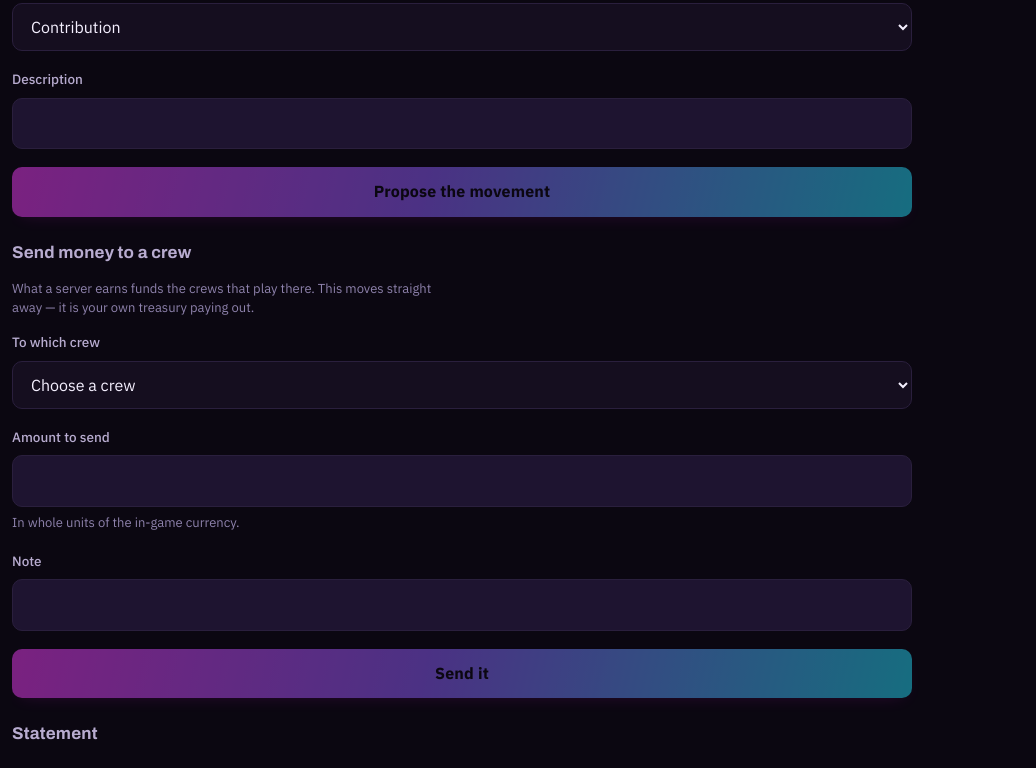
Test: a tesouraria de um servidor › transfere para a crew escolhida
(page scrolled)
Select "[VICE] Vice Kings" in the dropdown labelled "To which crew" at (462,384), box x1=12 y1=360 x2=912 y2=408
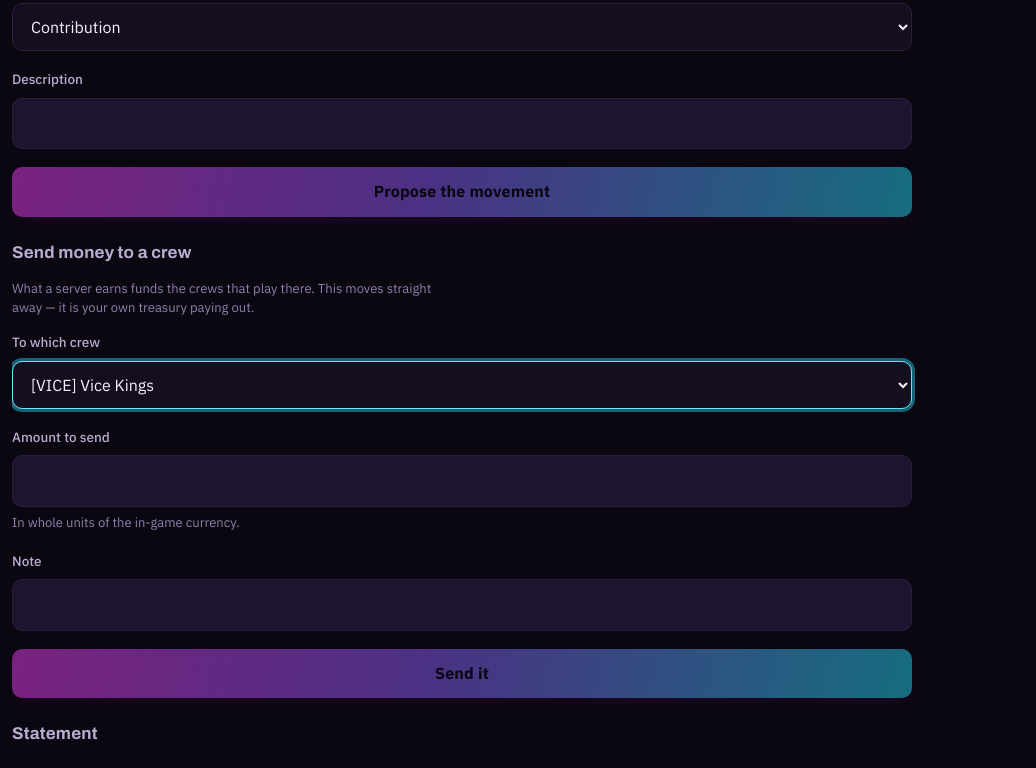
Type "250" into the field labelled "Amount to send" at (462,481), box x1=12 y1=455 x2=912 y2=507
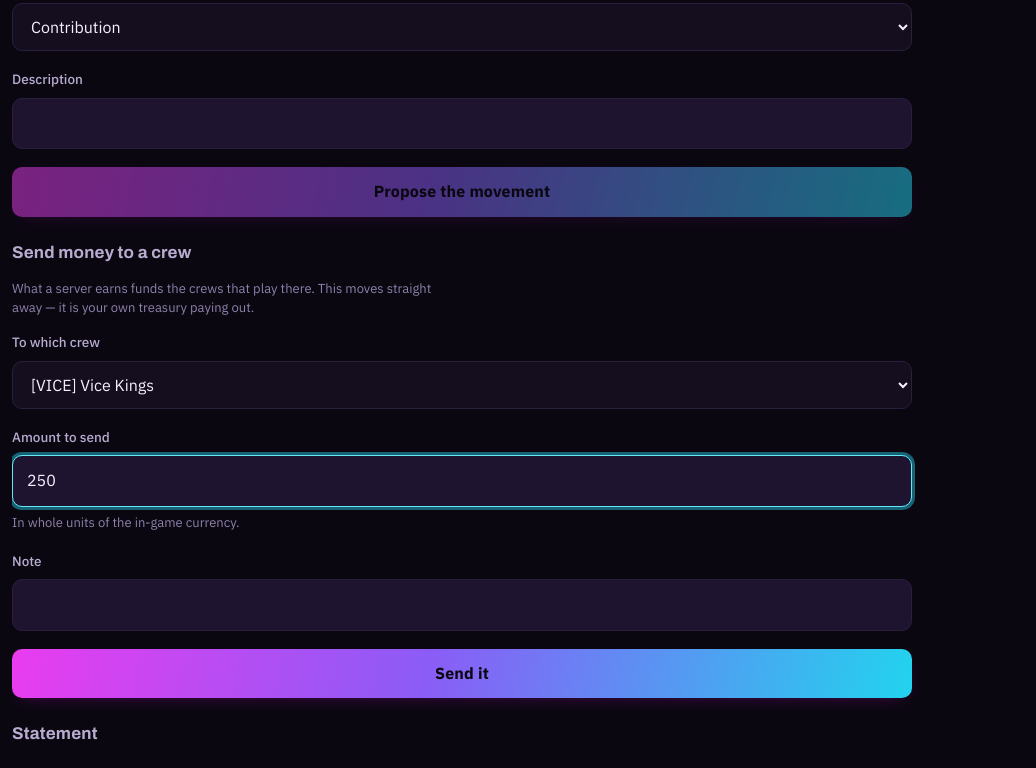
Type "Para o assalto" into the field labelled "Note" at (462,605), box x1=12 y1=579 x2=912 y2=631
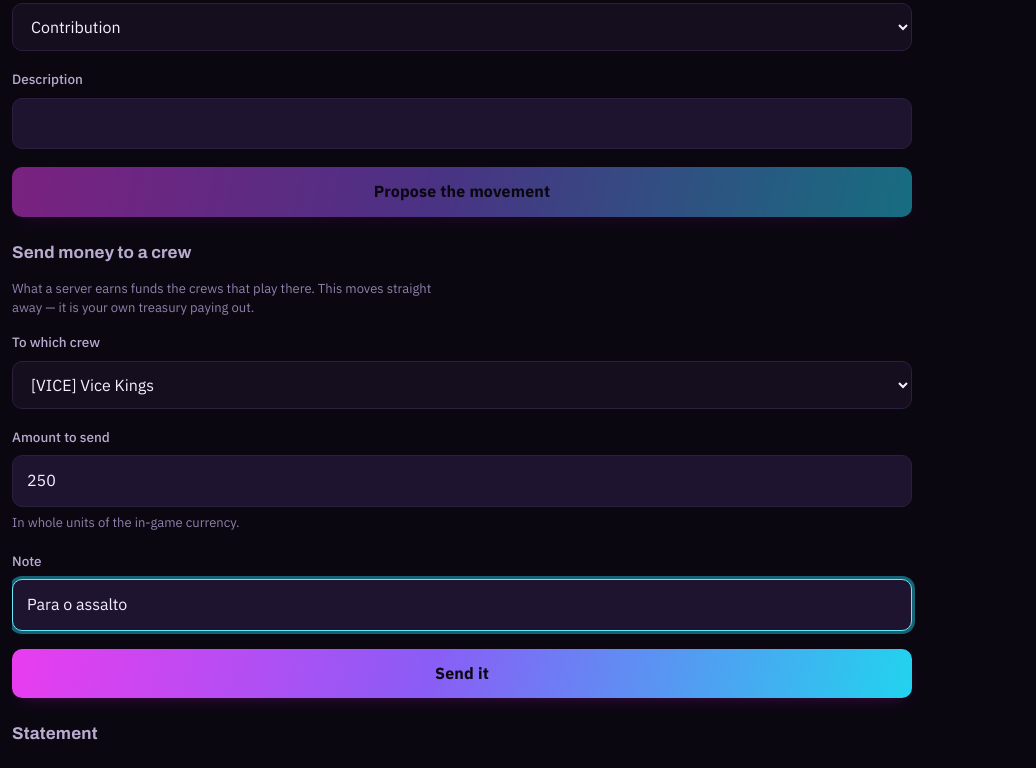
Click the button "Send it" at (462,674), box x1=12 y1=649 x2=912 y2=698
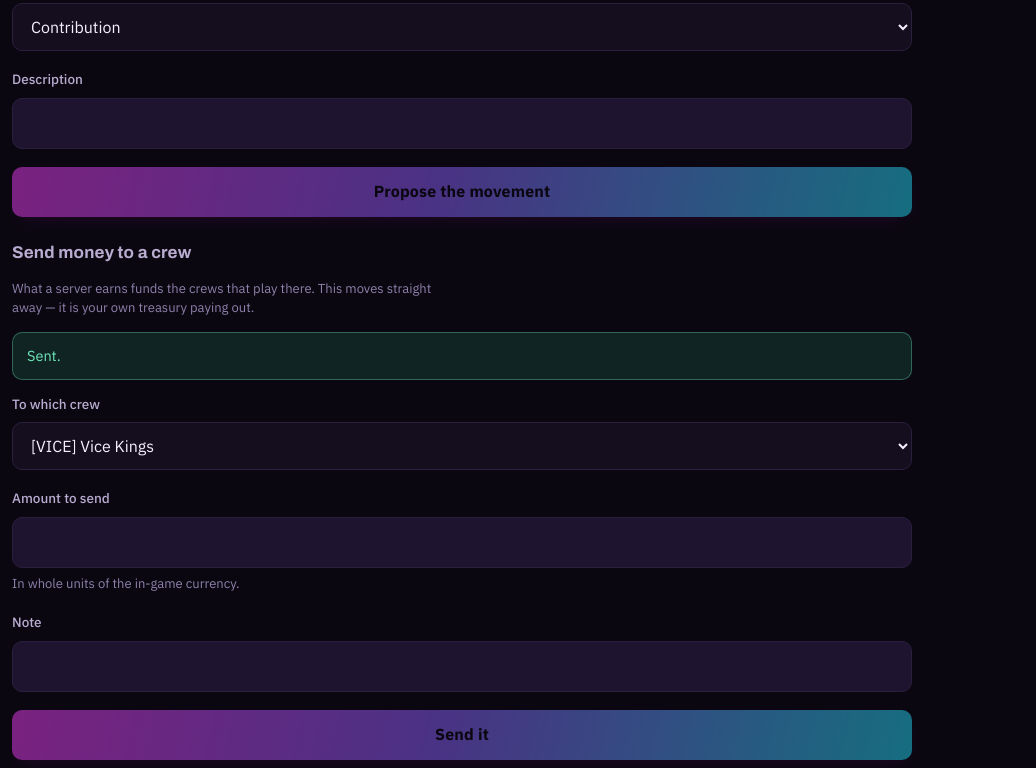
Expected: the text "Sent." is shown, x1=12 y1=332 x2=912 y2=380
